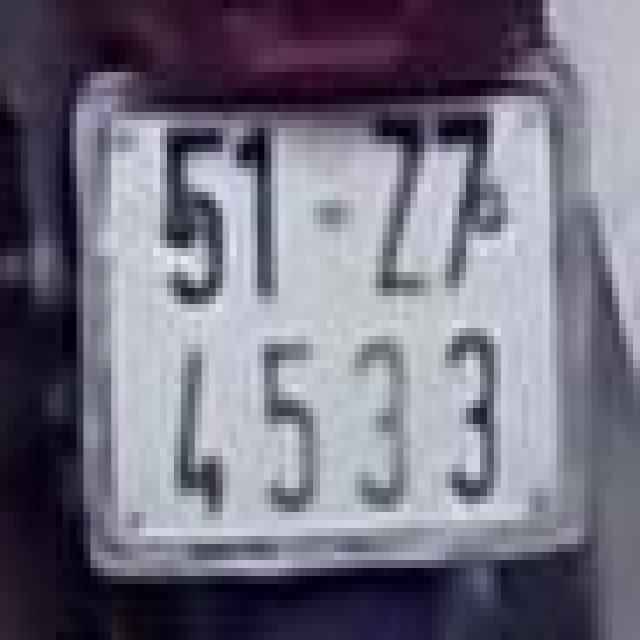1: (233, 120, 282, 312)
3: (435, 312, 525, 520), (341, 332, 417, 524)
4: (163, 328, 240, 520)
5: (157, 112, 233, 320), (250, 328, 327, 528)
7: (428, 100, 511, 300)
Z: (358, 108, 435, 300)
